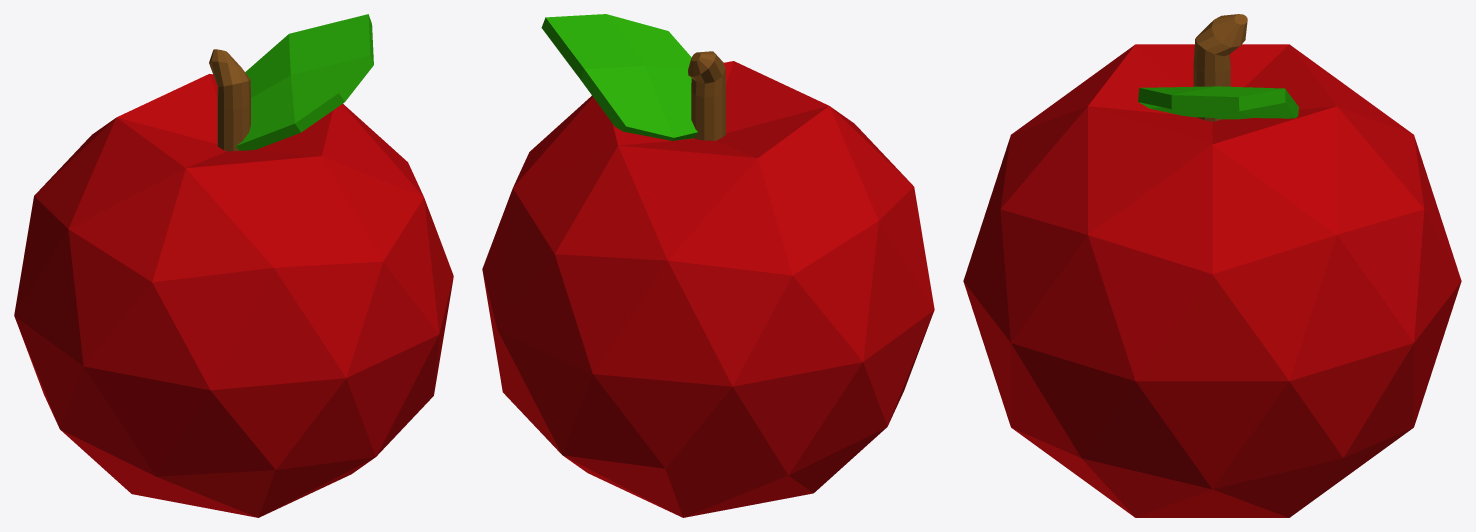
File: apple.fbx
3 views of the same model, side by side, from view 1: azimuth 30°, elevation 25°; view 2: azimuth 150°, elevation 25°; view 3: azimuth 270°, elevation 25° (orthographic). The views are drawn at different scales.
Parts seen in each view (by area): view 1: Icosphere, Cube, Cylinder; view 2: Icosphere, Cube, Cylinder; view 3: Icosphere, Cube, Cylinder.
Part boxes in pixels (<box>): Icosphere: <box>14,74,453,517</box>; Cube: <box>235,14,373,150</box>; Cylinder: <box>209,49,250,151</box>; Icosphere: <box>482,61,934,517</box>; Cube: <box>541,14,697,140</box>; Cylinder: <box>688,51,725,140</box>; Icosphere: <box>963,44,1461,517</box>; Cube: <box>1138,86,1298,119</box>; Cylinder: <box>1193,14,1247,121</box>.
Bounding box in the file's own units: 190 × 202 × 200.
